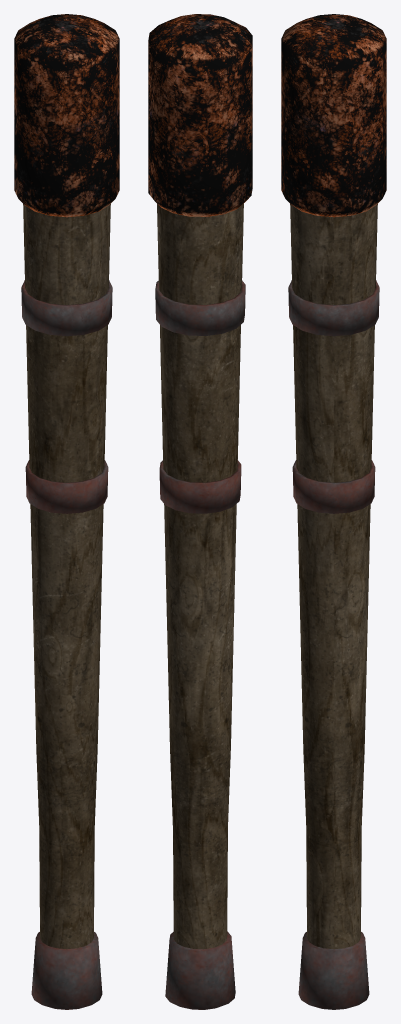
File: torch_model.gltf
The picture shows the model from 3 angles, left to right: view 1: azimuth 90°, elevation 25°; view 2: azimuth 210°, elevation 25°; view 3: azimuth 270°, elevation 25°; orthographic projection.
Visible parts, largest first — view 1: torch; view 2: torch; view 3: torch.
Part boxes in pixels (x1,y1,x2,y2): torch: (14, 14, 119, 1009); torch: (148, 14, 252, 1009); torch: (281, 14, 386, 1009).
Size of the model in its own units: 0.154 by 1.57 by 0.154.
Materials: 1 (1 with a texture image).
